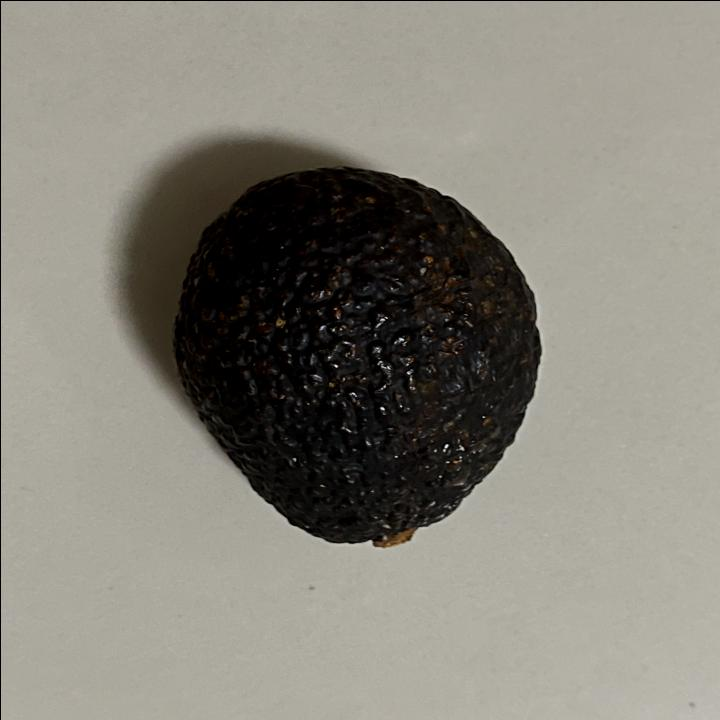Level2: (165, 160, 548, 556)
